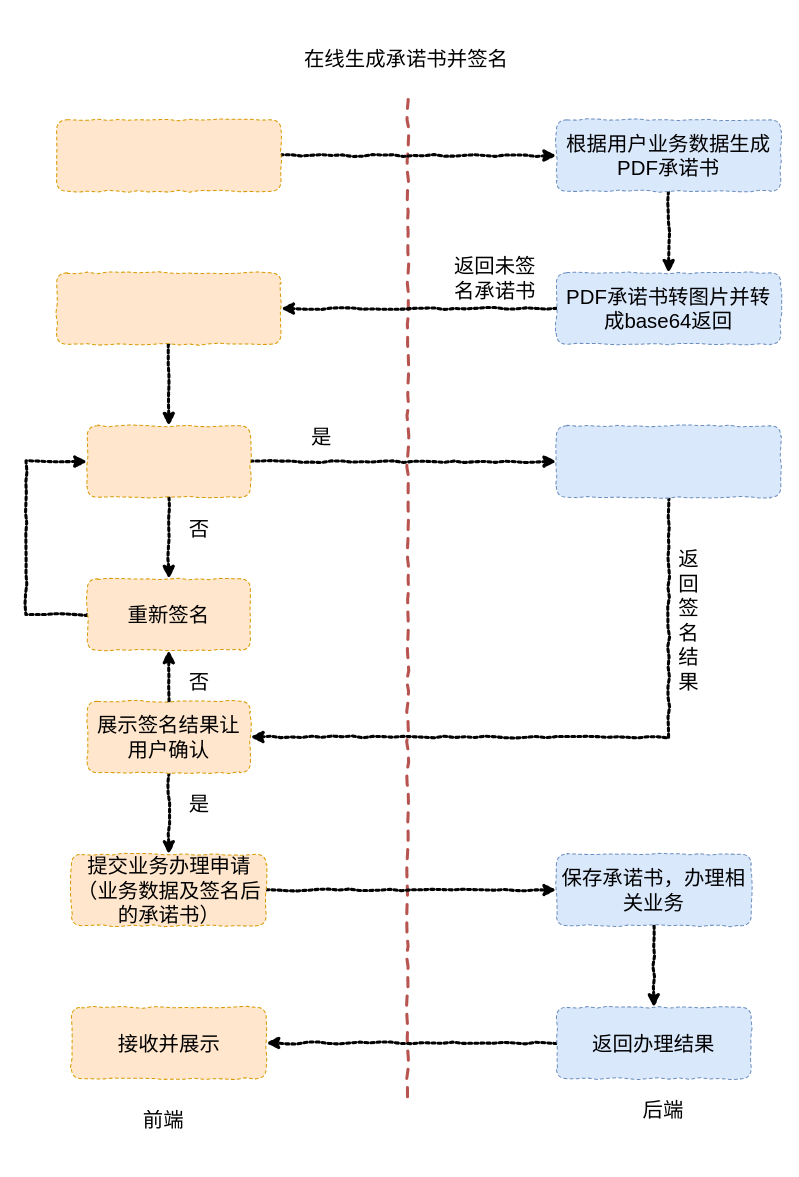
This 799x1177 diagram has some shape labels left out. Here are the shapes that lost their labels. From the top down, the box of each, then its label:
(56, 119, 281, 191): 填写业务数据
(56, 272, 281, 344): 前端展示，并让用户签名确认
(86, 425, 250, 497): 签名并确定确认
(555, 425, 781, 497): 将签名与承诺书合成签名版承诺书并返回
